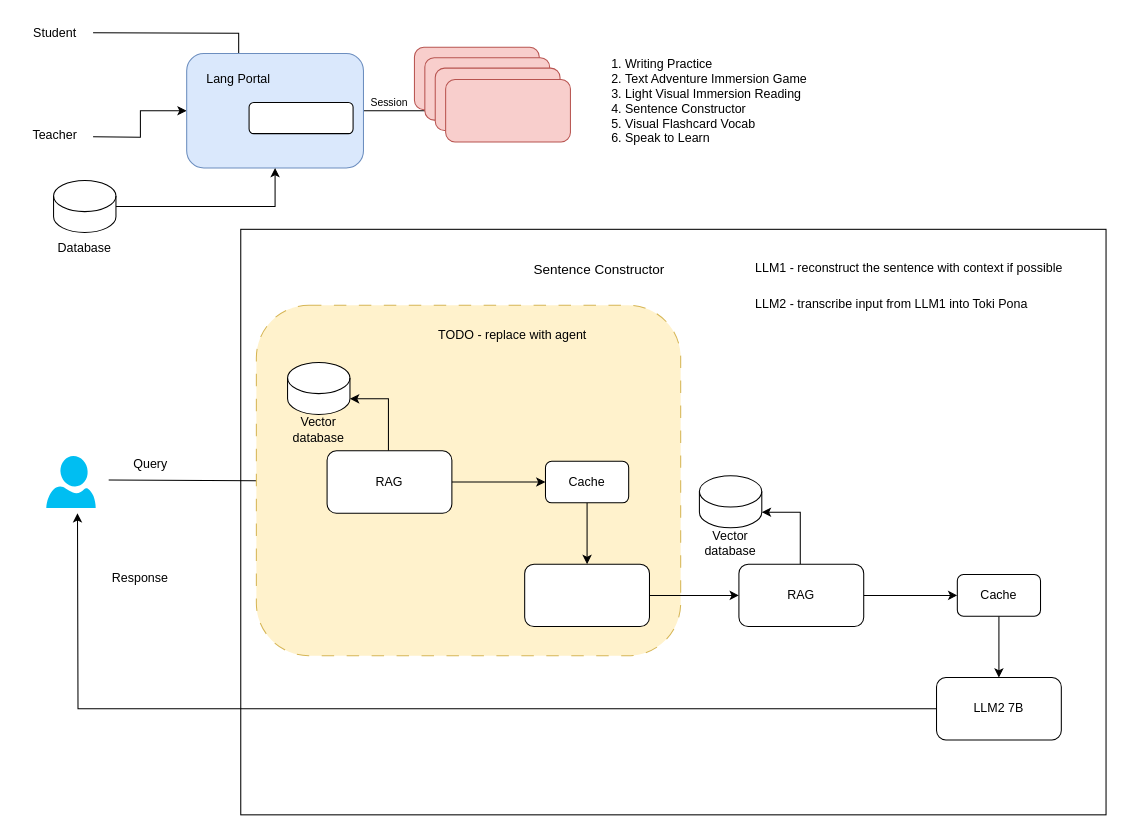
The diagram is 1124 pixels wide and 833 high, and some of its shapes have lost their labels. The shapes that lost their labels are listed below. From the top down, each one's centre as x and y in pixels, then its label:
At point (300, 117): "Word Group".
At point (507, 110): "Study Activities".
At point (586, 595): "LLM1 7B".
